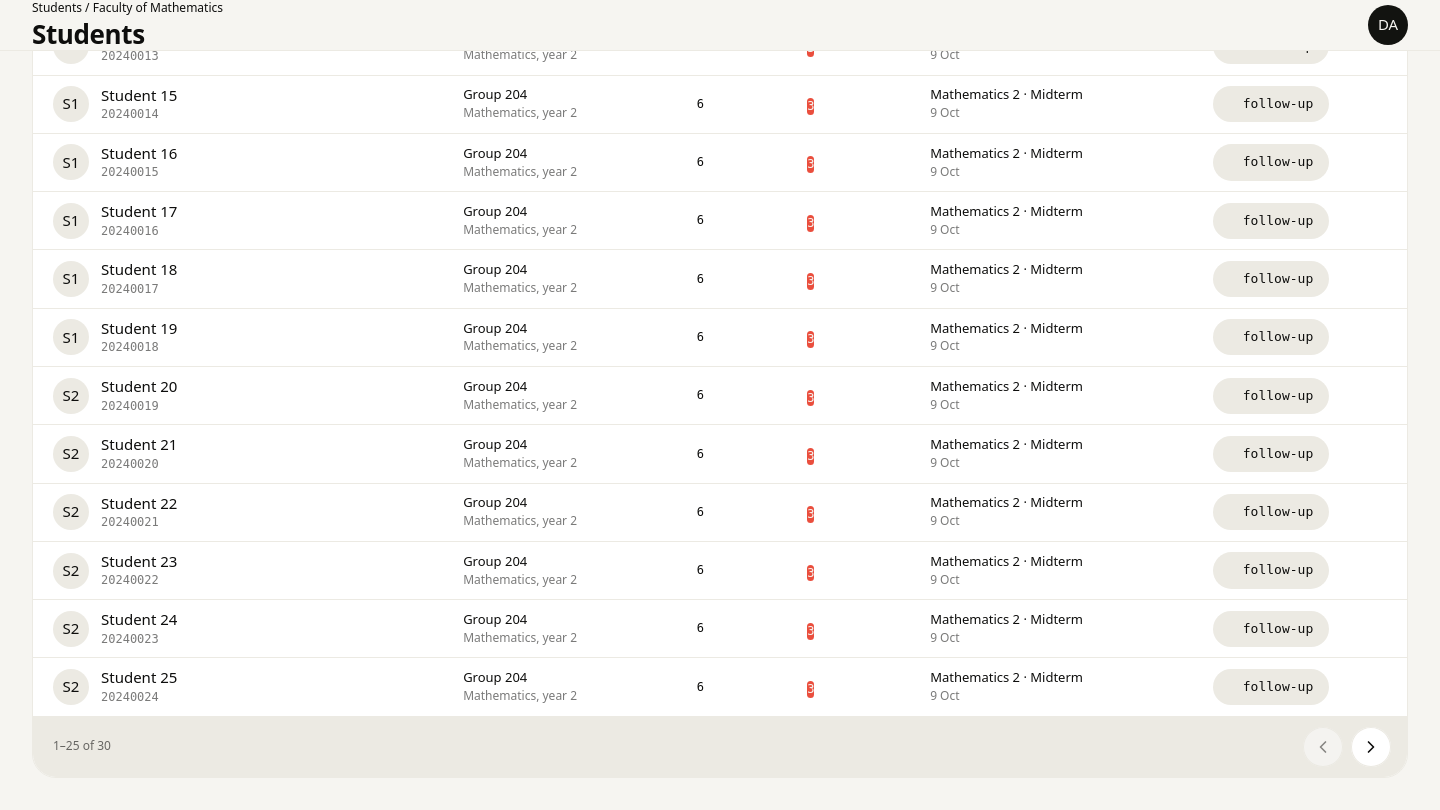
Scenario: A.2 Students › pages through 25 students at a time
The image size is (1440, 810).
(page scrolled)
Expected: the button named "Previous page" is disabled, x1=1303 y1=727 x2=1343 y2=767
Click the button named "Next page": x=1371, y=747 x1=1351 y1=727 x2=1391 y2=767
(page scrolled)
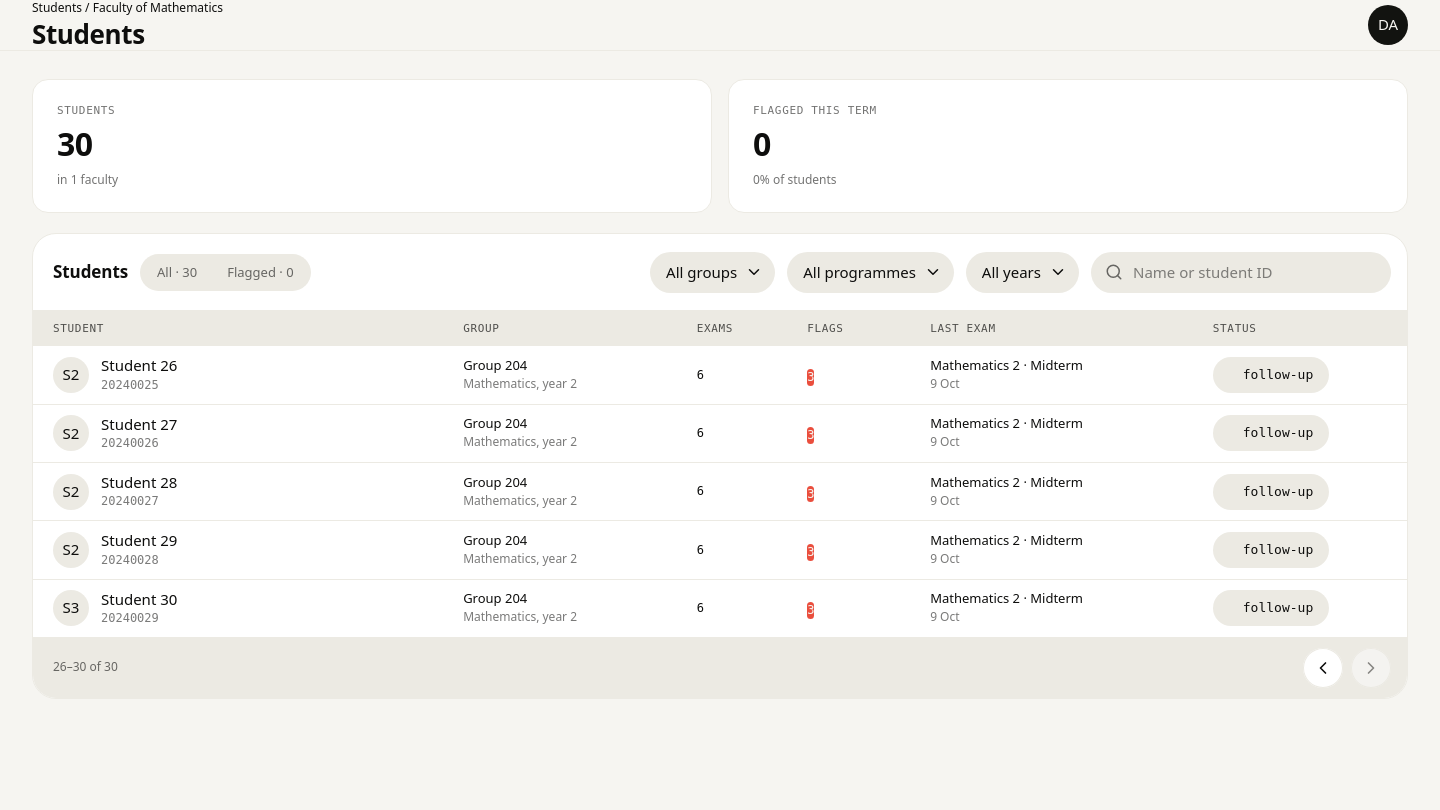
Expected: the text "26–30 of 30" is shown, x1=53 y1=658 x2=118 y2=675
Expected: the button named "Next page" is disabled, x1=1351 y1=648 x2=1391 y2=688
